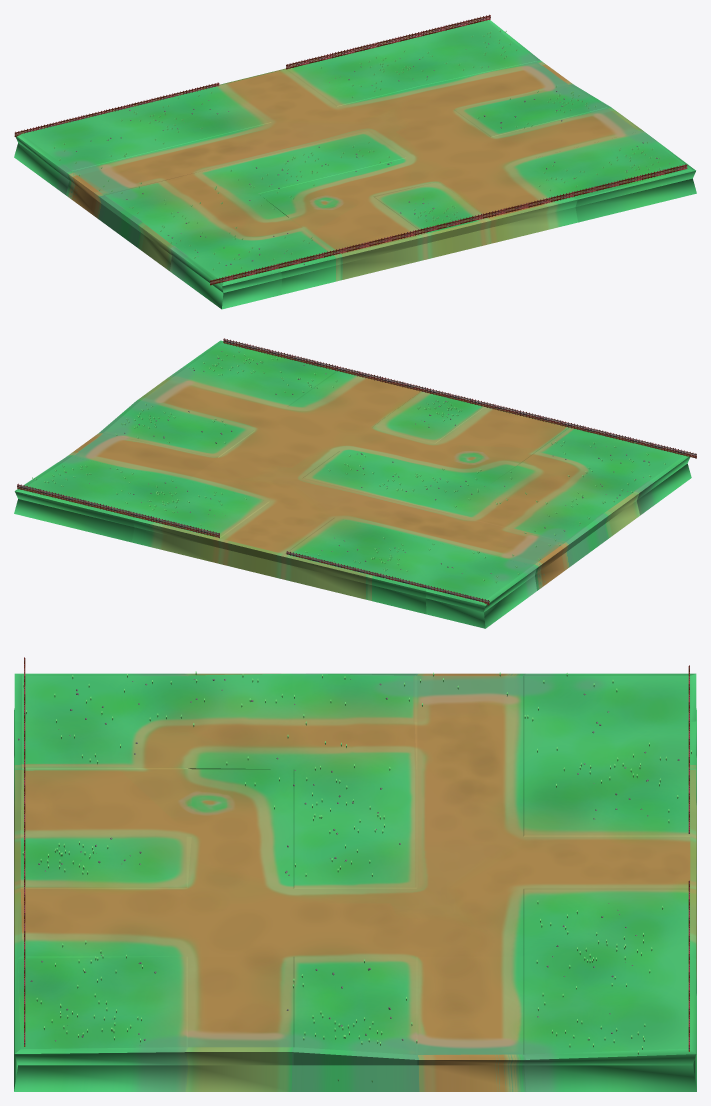
Rendered from main ground.fbx.
The picture shows the model from 3 angles, top to bottom: view 1: azimuth 30°, elevation 25°; view 2: azimuth 150°, elevation 25°; view 3: azimuth 270°, elevation 25°; orthographic projection. The views are drawn at different scales.
Visible parts, largest first — view 1: Plane; view 2: Plane; view 3: Plane.
Part boxes in pixels (<box>): Plane: <box>14,14,696,309</box>; Plane: <box>14,338,696,628</box>; Plane: <box>14,657,696,1091</box>.
Size of the model in its own units: 8284 by 477 by 6163.
